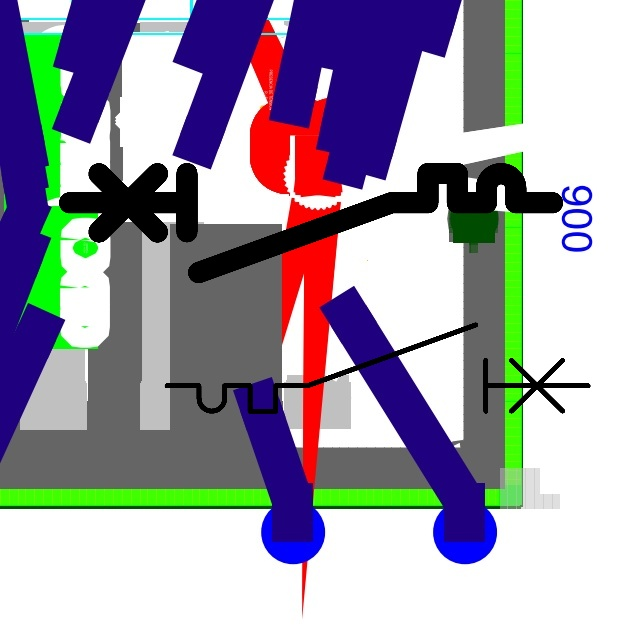interruptor_termomagnetico: (57, 161, 565, 285), (156, 314, 599, 422)
